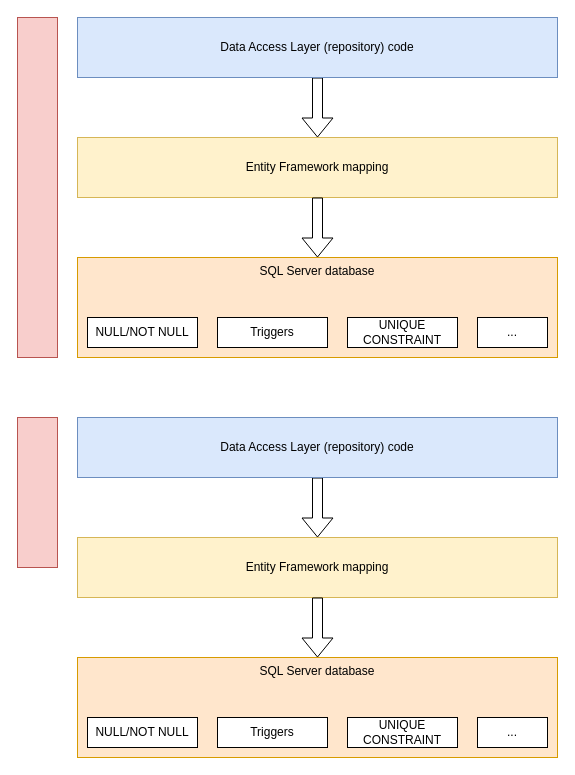
This 575x775 diagram has some shape labels left out. Each missing label, with the box of its shape:
Mock / In memory tests coverage: (16, 416, 58, 568)
PosInformatique.Testing.Databases test approach: (16, 16, 58, 358)
